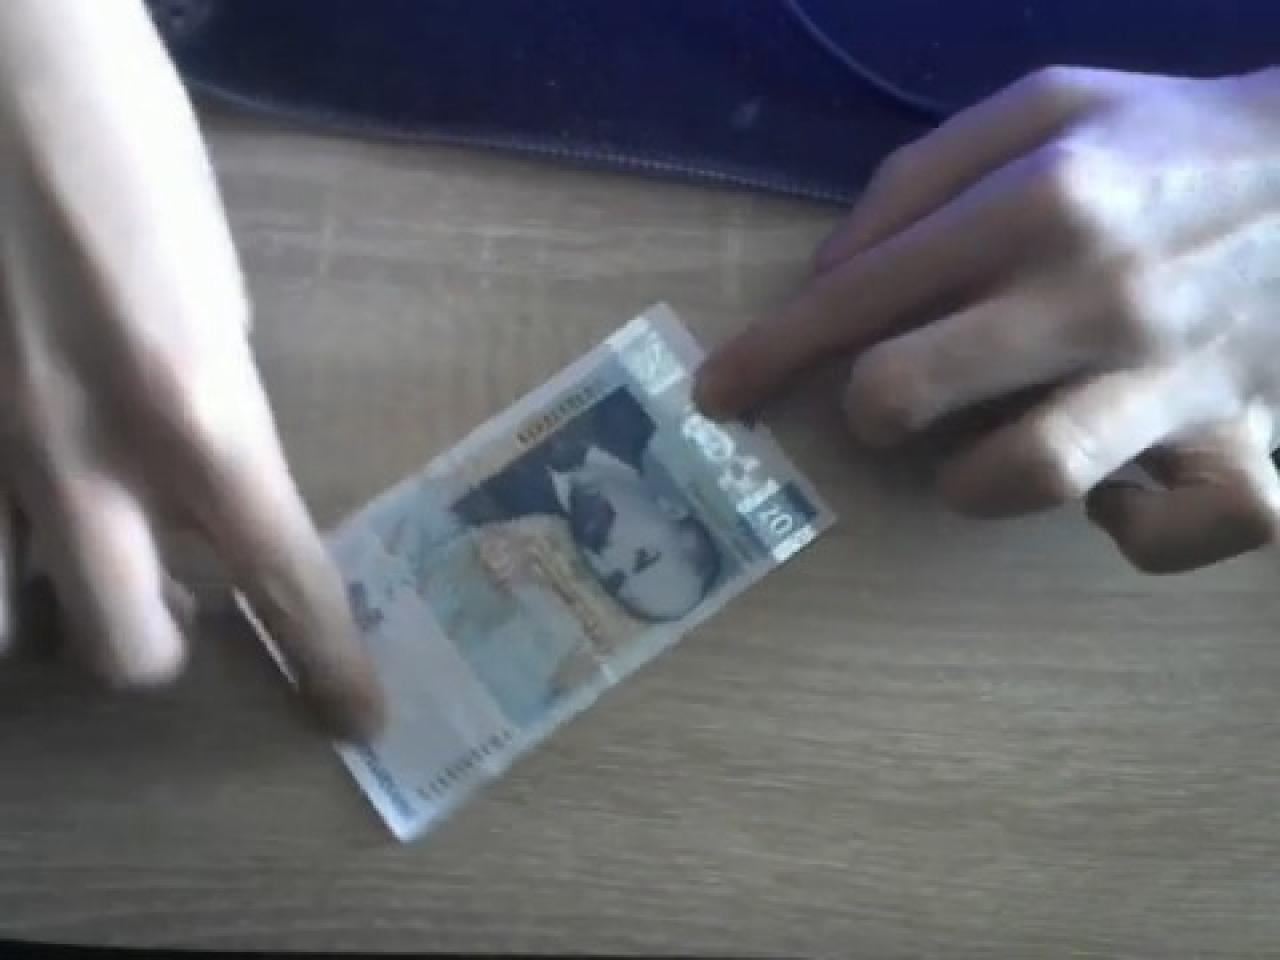20leva: (303, 296, 838, 843)
